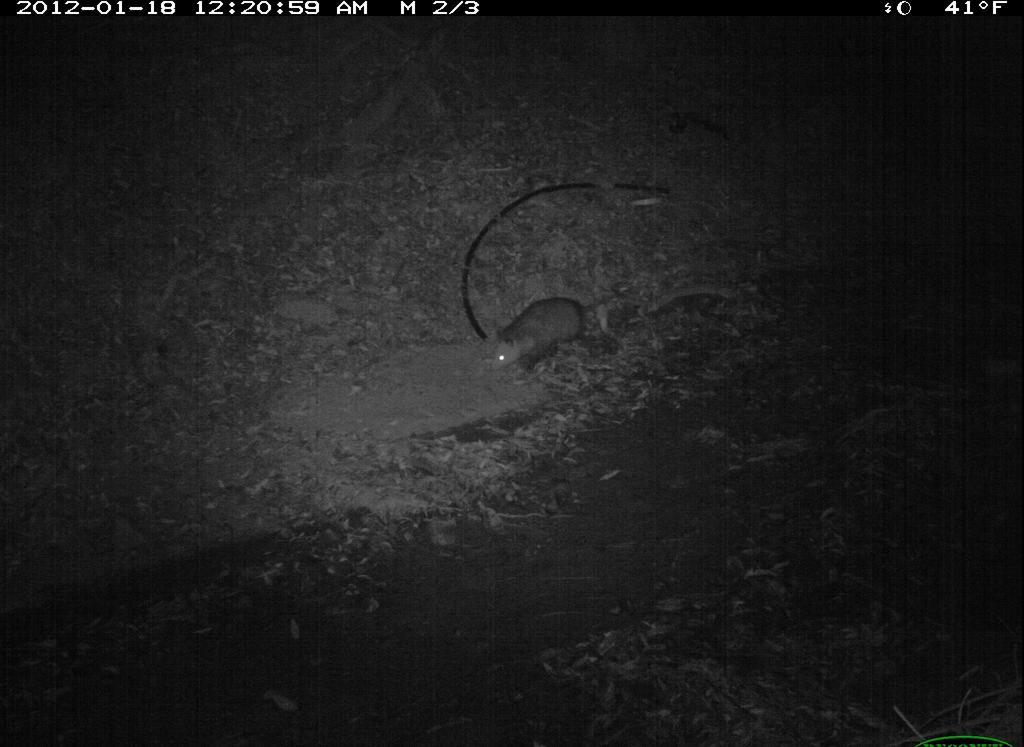opossum: (481, 285, 649, 386)
